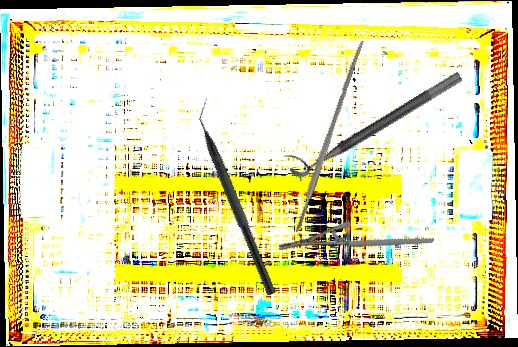Chopper: (187, 97, 289, 296)
Fixation Ring: (282, 57, 464, 182)
Needle Holder: (277, 195, 435, 294)
Scalpel Handle: (292, 39, 366, 233)
